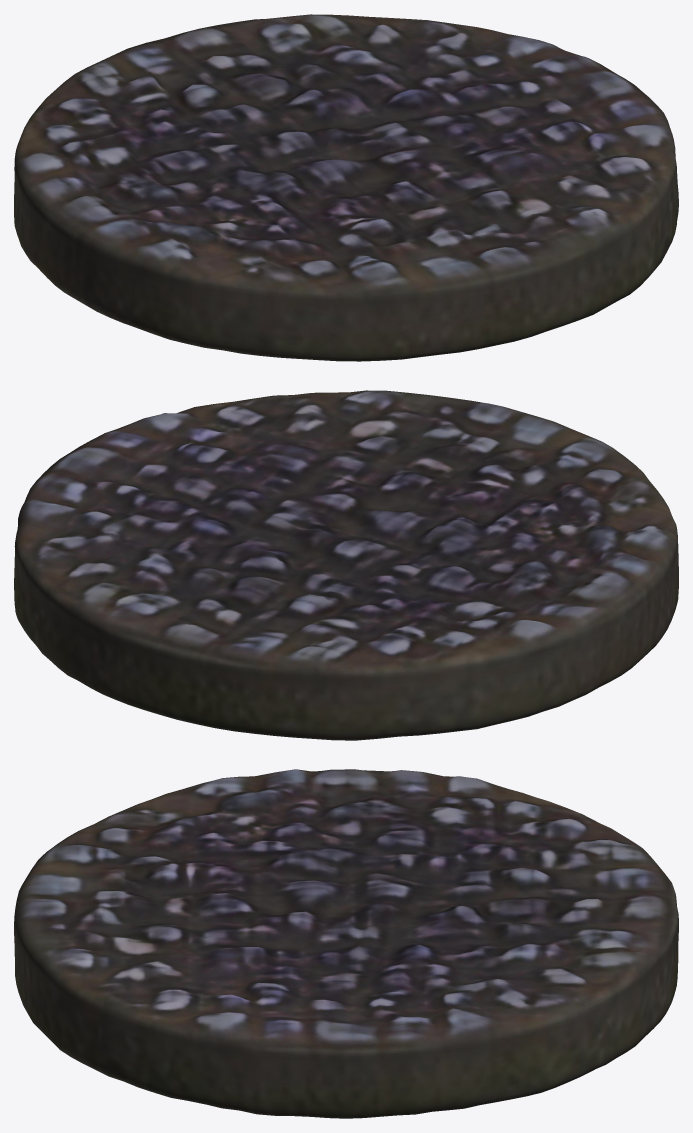
The model's file is f6e7ee76a2b7_Witch_circles__witc.fbx.
3 views of the same model, one above another, from view 1: azimuth 30°, elevation 25°; view 2: azimuth 150°, elevation 25°; view 3: azimuth 270°, elevation 25° (orthographic).
Visible parts, largest first — view 1: mesh; view 2: mesh; view 3: mesh.
Boxes of the visible parts, x1,y1,x2,y2 form: mesh: (14,14,678,361); mesh: (14,390,678,740); mesh: (14,769,678,1118).
Bounding box in the file's own units: 99.91 × 14.08 × 99.71.
